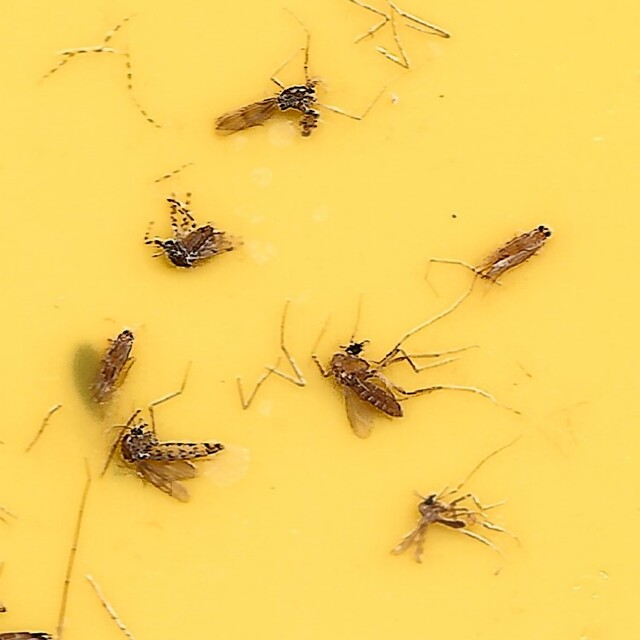Nematocera: (315, 337, 481, 443), (383, 488, 510, 565), (124, 420, 230, 500), (208, 75, 333, 140), (148, 195, 243, 272)
Trichoptera: (87, 324, 140, 406), (476, 223, 553, 278)
